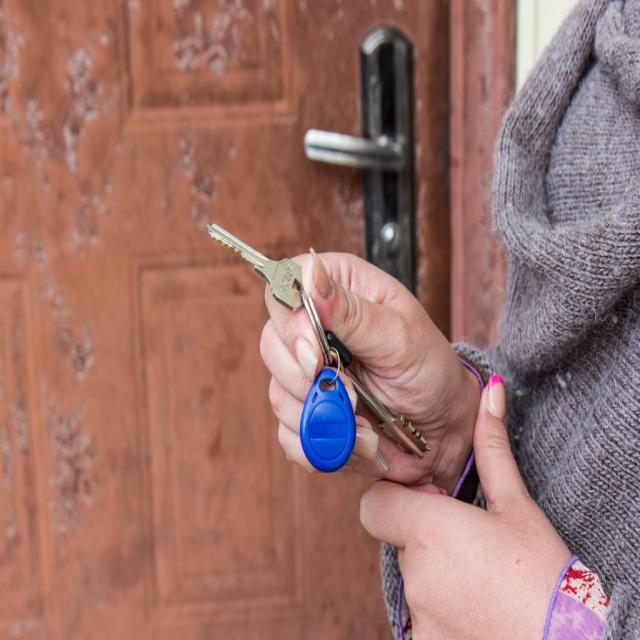Frontdoor keys: (206, 222, 303, 312)
